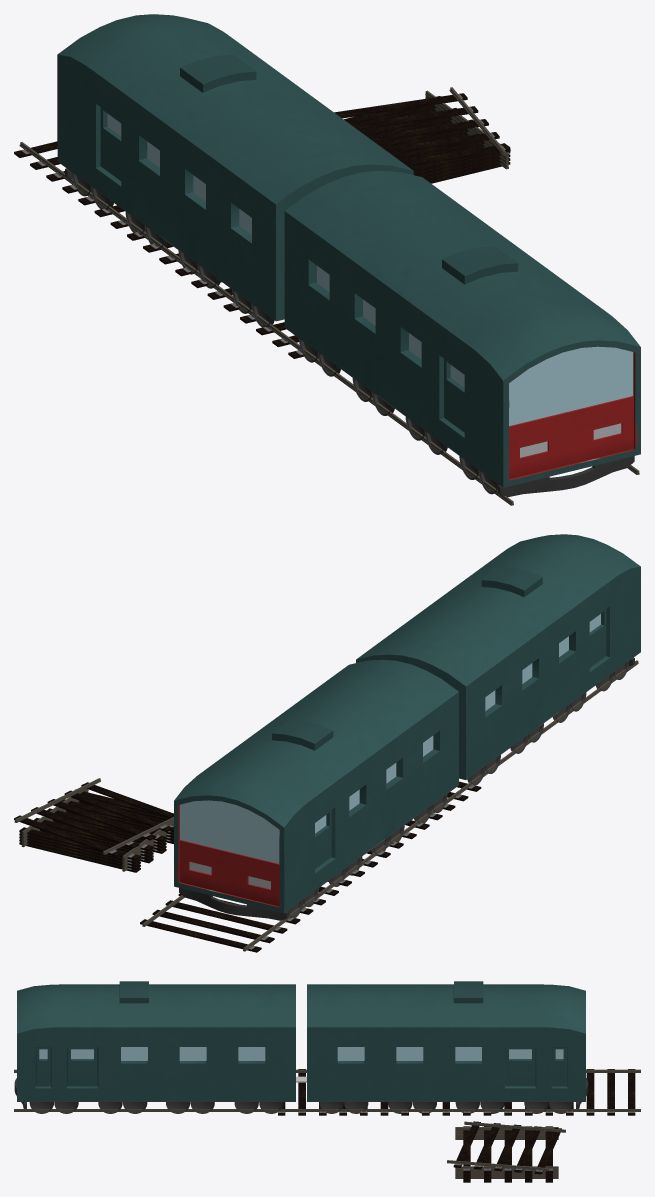
The model's file is Train.fbx.
3 views of the same model, one above another, from view 1: azimuth 30°, elevation 25°; view 2: azimuth 150°, elevation 25°; view 3: azimuth 270°, elevation 25° (orthographic). The views are drawn at different scales.
Visible parts, largest first — view 1: train_Body.001, train_Body, track_Bottom.019, track_Bottom.017, train_Barrier.001, track_Bottom.016, track_Rail, track_Bottom, track_Bottom.015; view 2: train_Body, train_Body.001, track_Bottom.019, track_Bottom.017, track_Bottom, track_Bottom.016, train_Barrier, track_Bottom.015, track_Bottom.001, track_Rail, track_Bottom.014; view 3: train_Body, train_Body.001, track_Bottom.019, track_Rail, track_Bottom, track_Bottom.017, track_Bottom.018, track_Bottom.014, track_Bottom.015, track_Bottom.016, track_Bottom.012.
Part boxes in pixels (x1,y1,x2,y2): train_Body.001: [284, 171, 640, 487]; train_Body: [57, 14, 413, 321]; track_Bottom.019: [334, 87, 510, 166]; track_Bottom.017: [344, 90, 510, 172]; train_Barrier.001: [497, 456, 634, 496]; track_Bottom.016: [361, 95, 510, 175]; track_Rail: [279, 334, 639, 505]; track_Bottom: [14, 141, 101, 205]; track_Bottom.015: [359, 107, 510, 177]; train_Body: [174, 659, 458, 913]; train_Body.001: [356, 534, 640, 779]; track_Bottom.019: [14, 778, 173, 856]; track_Bottom.017: [19, 788, 173, 860]; track_Bottom: [140, 895, 313, 952]; track_Bottom.016: [19, 789, 173, 863]; train_Barrier: [179, 888, 288, 920]; track_Bottom.015: [19, 791, 173, 866]; track_Bottom.001: [152, 891, 325, 943]; track_Rail: [272, 660, 638, 931]; track_Bottom.014: [19, 801, 173, 869]; train_Body: [307, 981, 585, 1101]; train_Body.001: [17, 981, 295, 1101]; track_Bottom.019: [447, 1121, 565, 1174]; track_Rail: [14, 1069, 597, 1111]; track_Bottom: [538, 1069, 640, 1115]; track_Bottom.017: [455, 1126, 558, 1172]; track_Bottom.018: [455, 1137, 558, 1182]; track_Bottom.014: [455, 1135, 558, 1180]; track_Bottom.015: [455, 1132, 558, 1177]; track_Bottom.016: [455, 1130, 558, 1175]; track_Bottom.012: [292, 1069, 346, 1115].
Bounding box in the file's own units: 674 × 283 × 1522.
